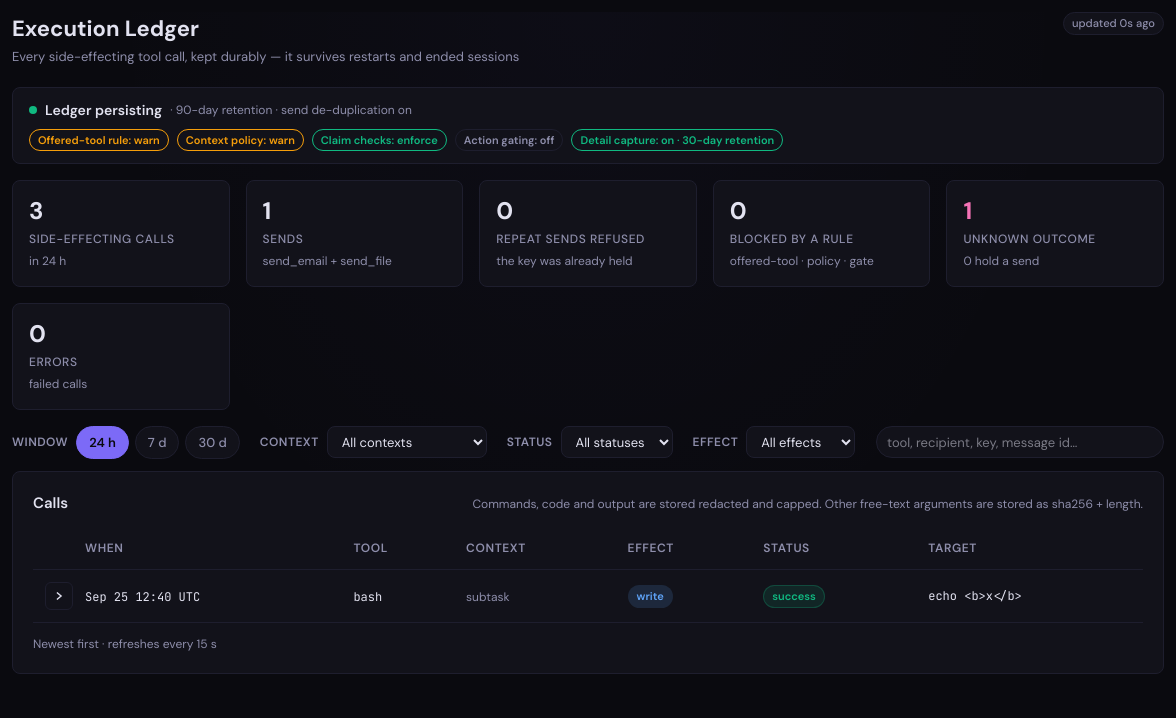
Test: harness dashboard views › Ledger renders stored text as text, never as markup
This screenshot has width=1176, height=718.
Click the button named "Show details for bash" at (59, 596), box [45,582,73,610]
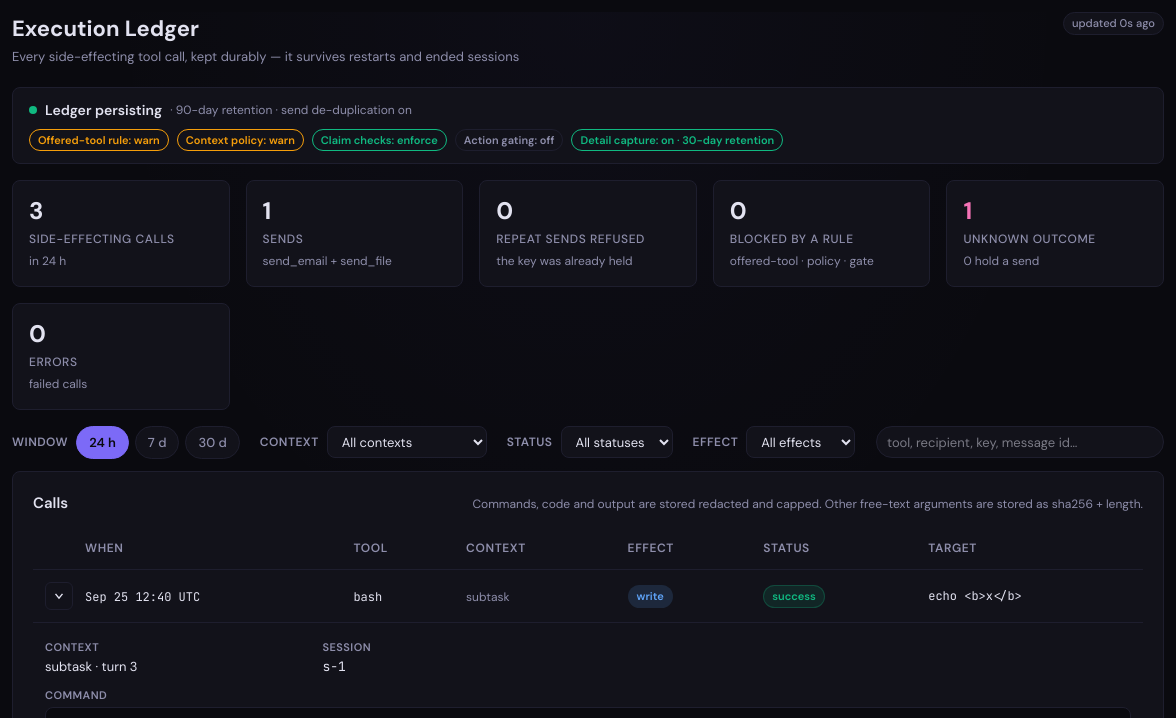
Expected: the number of elements with class "stored" is 2
